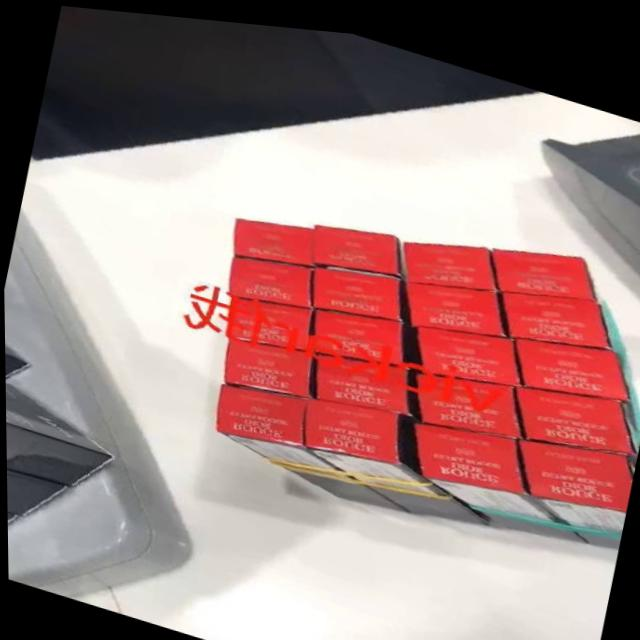box: (302, 391, 490, 518), (214, 379, 403, 504), (411, 414, 586, 533), (516, 428, 633, 536), (508, 375, 635, 442), (513, 326, 631, 393), (311, 344, 420, 415), (311, 303, 423, 366), (412, 365, 522, 429), (415, 318, 525, 377), (500, 282, 613, 337), (223, 332, 317, 393), (310, 259, 408, 317), (406, 273, 511, 327), (312, 219, 407, 274), (491, 238, 595, 288), (225, 290, 315, 345), (402, 233, 498, 282), (227, 250, 310, 302), (231, 213, 313, 261)
